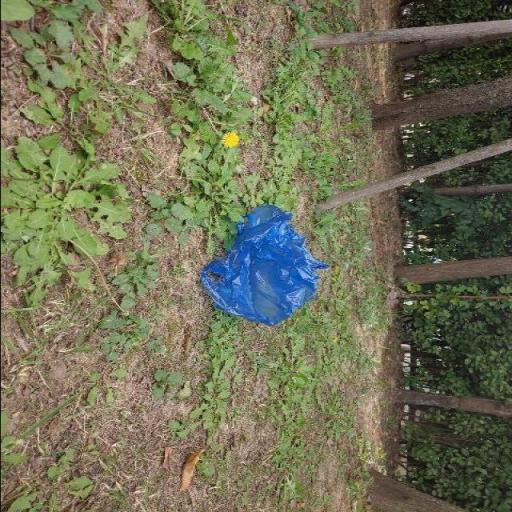plastic-bag: (196, 203, 332, 328)
